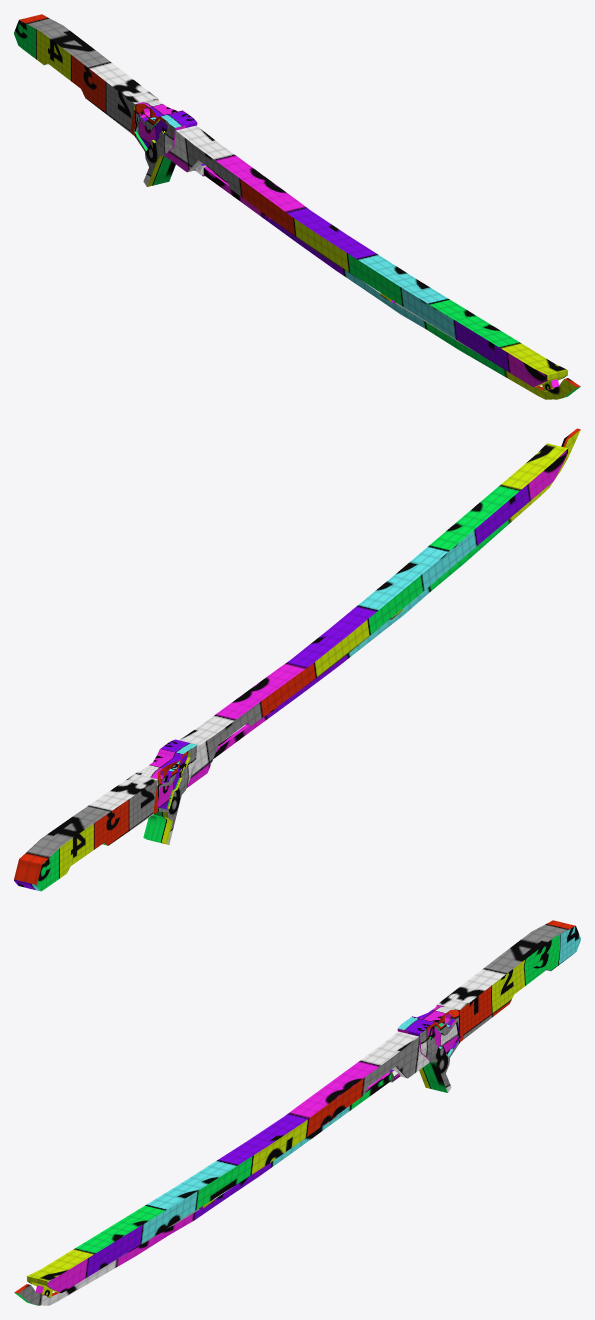
Rendered from P03a_Asset_HawnP.fbx.
The picture shows the model from 3 angles, top to bottom: view 1: azimuth 30°, elevation 25°; view 2: azimuth 150°, elevation 25°; view 3: azimuth 330°, elevation 25°; orthographic projection.
Visible parts, largest first — view 1: SM_Katana7; view 2: SM_Katana7; view 3: SM_Katana7.
Part boxes in pixels (box(x1,y1,x2,y2)): SM_Katana7: box(14, 14, 580, 399); SM_Katana7: box(14, 428, 580, 891); SM_Katana7: box(14, 920, 580, 1305).
Bounding box in the file's own units: 0.3048 × 1.27 × 12.12.
